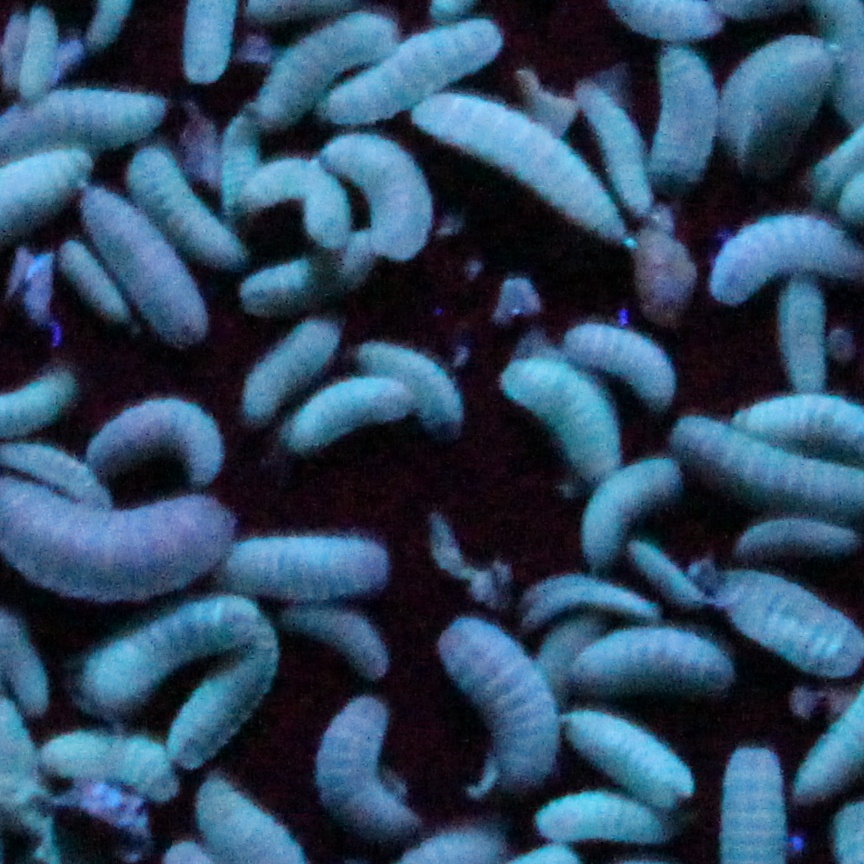larve: (426, 97, 632, 250), (477, 609, 595, 794), (82, 603, 261, 711), (440, 614, 548, 786), (322, 24, 496, 120), (92, 190, 199, 342), (720, 28, 832, 167), (313, 698, 413, 842), (256, 19, 384, 126), (167, 647, 279, 758), (131, 149, 240, 263), (507, 368, 617, 472), (558, 714, 690, 796), (649, 38, 720, 189), (585, 455, 685, 562), (215, 542, 394, 601), (36, 732, 171, 801), (358, 335, 461, 424), (569, 629, 728, 686), (85, 403, 220, 468), (235, 240, 371, 303), (573, 97, 651, 206), (566, 322, 676, 398), (289, 381, 410, 450), (284, 593, 382, 672), (253, 158, 346, 239), (536, 793, 685, 840), (251, 322, 326, 414), (505, 578, 654, 617), (61, 244, 121, 322), (782, 286, 826, 386), (740, 522, 859, 555), (12, 9, 56, 98), (228, 119, 262, 212)
